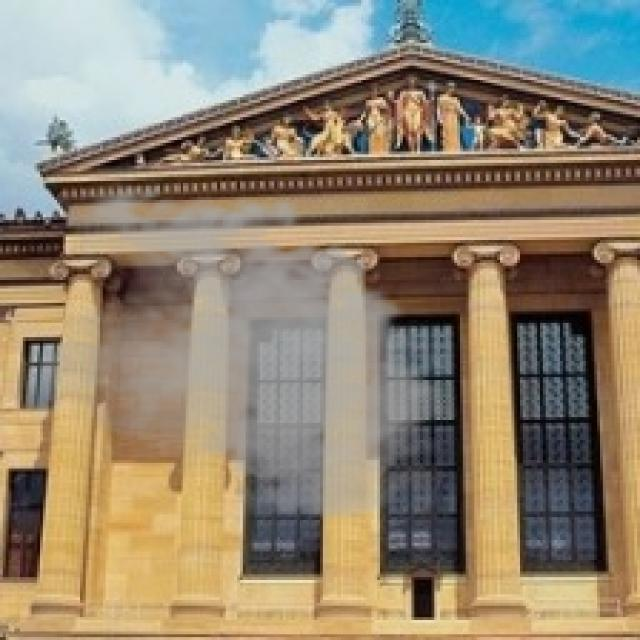smoke: (37, 174, 460, 529)
